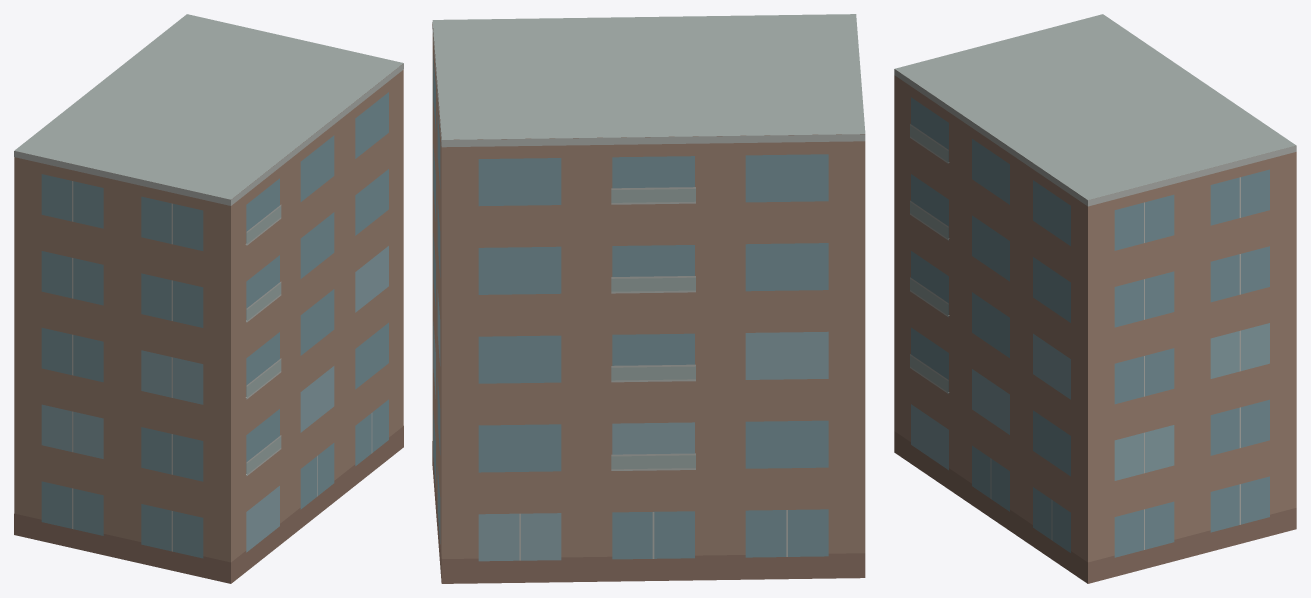
The model's file is survey-upis-32691817.glb.
3 views of the same model, side by side, from view 1: azimuth 30°, elevation 25°; view 2: azimuth 150°, elevation 25°; view 3: azimuth 270°, elevation 25° (orthographic). The views are drawn at different scales.
Visible parts, largest first — view 1: survey-upis-32691817.tmp; view 2: survey-upis-32691817.tmp; view 3: survey-upis-32691817.tmp.
Part boxes in pixels (bbox=[...]): survey-upis-32691817.tmp: bbox=[14, 14, 403, 583]; survey-upis-32691817.tmp: bbox=[432, 14, 865, 583]; survey-upis-32691817.tmp: bbox=[894, 14, 1296, 583].
Size of the model in its own units: 15.51 by 14.89 by 14.15.
